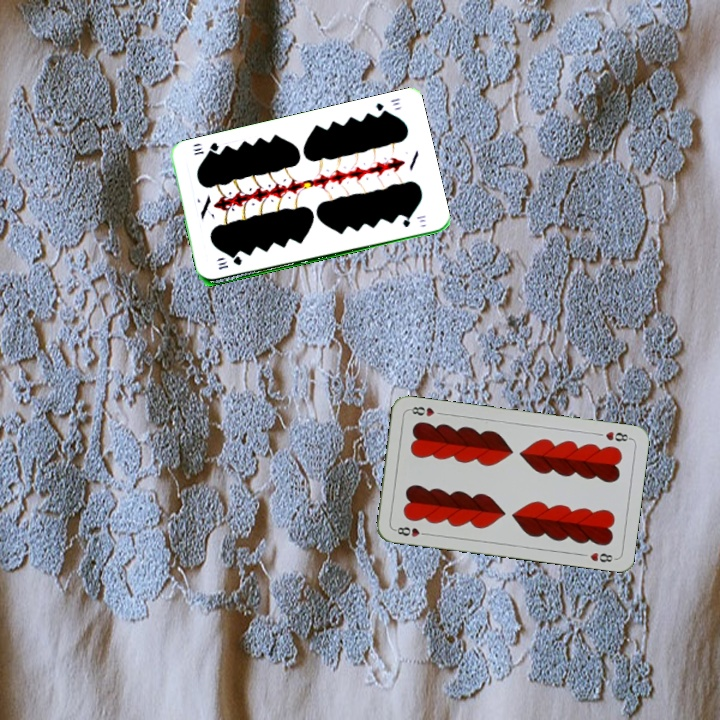G10: (372, 94, 403, 118), (214, 254, 244, 272)
H8: (390, 523, 431, 539), (601, 427, 633, 444)
